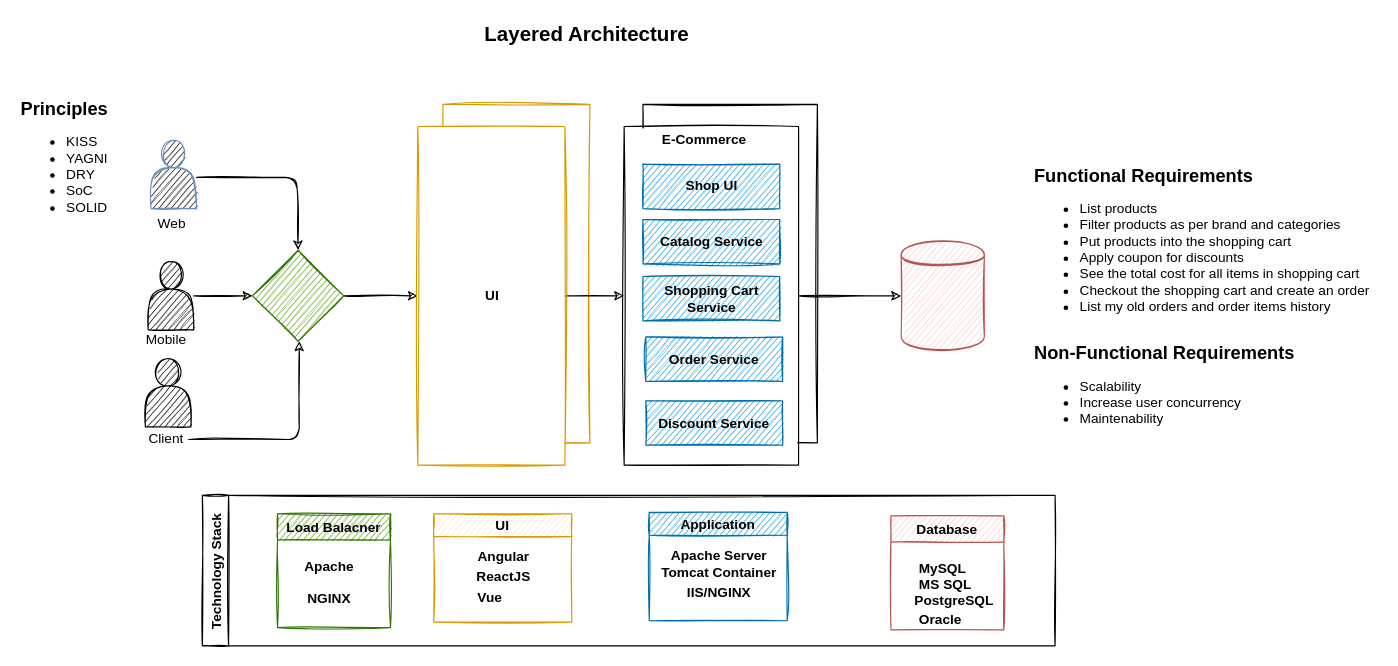
The diagram is 1398 pixels wide and 666 high, and some of its shapes have lost their labels. The centre of each missing label's shape, as x and y in pixels:
"Load Balancer" belongs at pixel 297 295.
"RDBMS" belongs at pixel 942 295.
